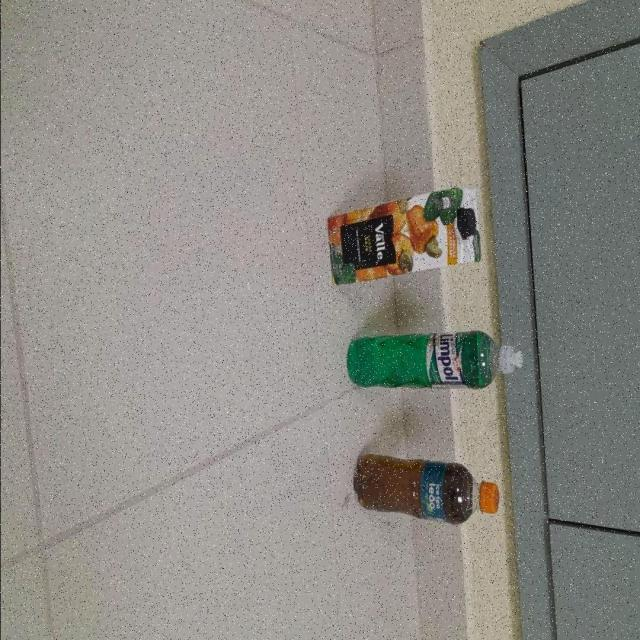Cleaner: (344, 329, 522, 390)
IceTea: (350, 454, 499, 526)
